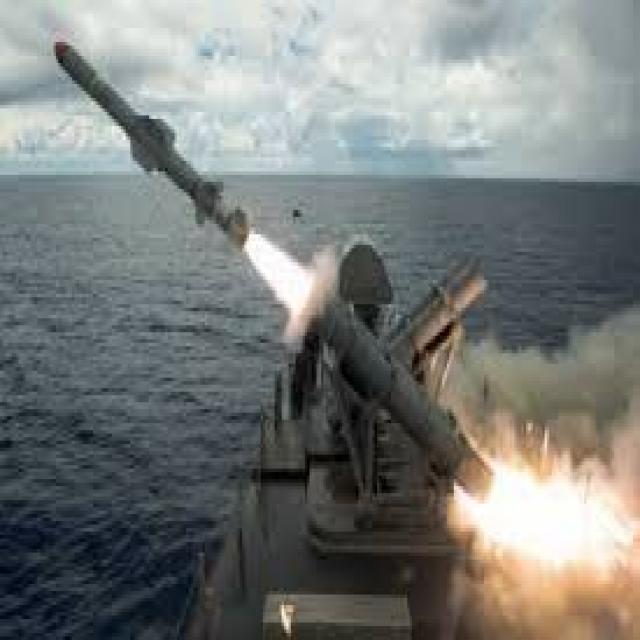missile: (50, 31, 253, 252)
